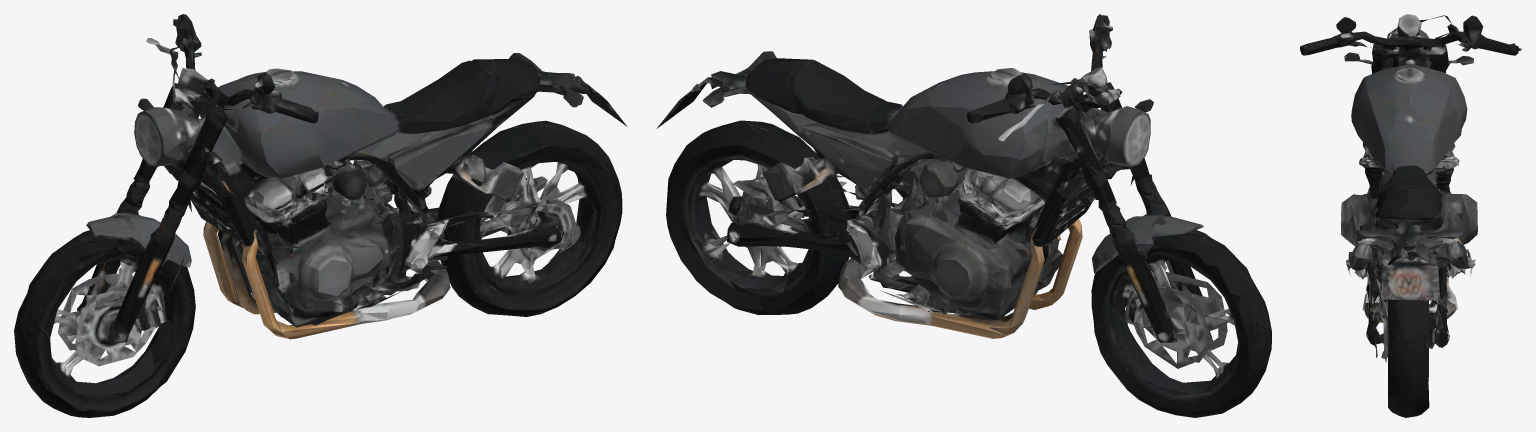
The model's file is motorrad.glb.
3 renders of one model, left to right at view 1: azimuth 30°, elevation 25°; view 2: azimuth 150°, elevation 25°; view 3: azimuth 270°, elevation 25°, orthographic. The views are drawn at different scales.
Visible parts, largest first — view 1: output_unwrapped; view 2: output_unwrapped; view 3: output_unwrapped.
Boxes of the visible parts, left/top/right/bottom form: output_unwrapped: left=14, top=14, right=627, bottom=417; output_unwrapped: left=656, top=14, right=1271, bottom=417; output_unwrapped: left=1300, top=14, right=1521, bottom=417.
Size of the model in its own units: 1.9 by 1.04 by 0.7574.
Materials: 1 (1 with a texture image).
